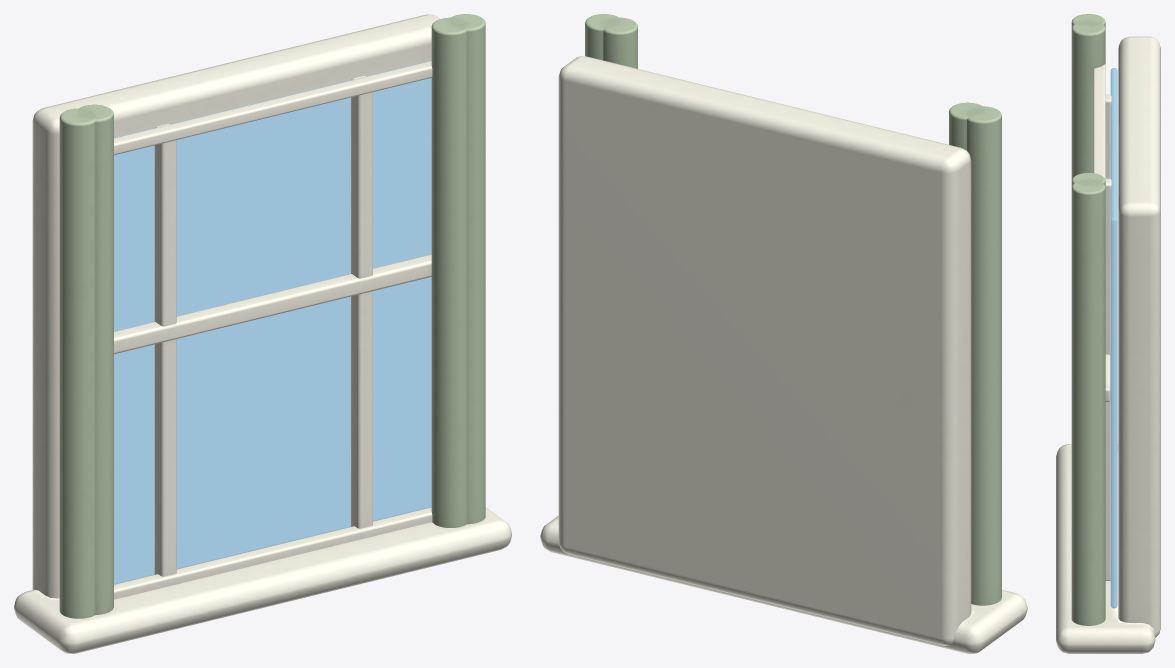
The model's file is window11A.glb.
3 views of the same model, side by side, from view 1: azimuth 30°, elevation 25°; view 2: azimuth 150°, elevation 25°; view 3: azimuth 270°, elevation 25° (orthographic). The views are drawn at different scales.
Visible parts, largest first — view 1: Window glass, Window frame, Sill, Curtain fold, Curtain fold.003, Curtain fold.002, Curtain fold.001, Window muntin, Window muntin.001, Window crossbar, Opening sash rail.001, Opening sash rail; view 2: Window frame, Curtain fold, Sill, Curtain fold.003, Curtain fold.002, Curtain fold.001; view 3: Window frame, Curtain fold.002, Sill, Window glass, Curtain fold.001, Window muntin.001, Opening sash rail.001, Window muntin, Curtain fold, Curtain fold.003, Window crossbar.
Part boxes in pixels (x1=…): Window glass: x1=114, y1=60, x2=431, y2=584; Window frame: x1=32, y1=14, x2=440, y2=598; Sill: x1=14, y1=507, x2=511, y2=653; Curtain fold: x1=59, y1=108, x2=95, y2=618; Curtain fold.003: x1=431, y1=17, x2=467, y2=527; Curtain fold.002: x1=449, y1=14, x2=485, y2=524; Curtain fold.001: x1=78, y1=104, x2=113, y2=614; Window muntin: x1=154, y1=123, x2=176, y2=576; Window muntin.001: x1=351, y1=75, x2=372, y2=528; Window crossbar: x1=114, y1=254, x2=431, y2=354; Opening sash rail.001: x1=114, y1=61, x2=432, y2=155; Opening sash rail: x1=114, y1=507, x2=432, y2=599; Window frame: x1=558, y1=56, x2=971, y2=645; Curtain fold: x1=966, y1=106, x2=1001, y2=605; Sill: x1=540, y1=515, x2=1027, y2=653; Curtain fold.003: x1=603, y1=17, x2=637, y2=68; Curtain fold.002: x1=585, y1=14, x2=619, y2=60; Curtain fold.001: x1=949, y1=102, x2=983, y2=150; Window frame: x1=1118, y1=36, x2=1160, y2=637; Curtain fold.002: x1=1071, y1=179, x2=1105, y2=625; Sill: x1=1056, y1=444, x2=1155, y2=653; Window glass: x1=1110, y1=68, x2=1117, y2=608; Curtain fold.001: x1=1071, y1=20, x2=1105, y2=179; Window muntin.001: x1=1105, y1=178, x2=1111, y2=580; Opening sash rail.001: x1=1093, y1=64, x2=1105, y2=178; Window muntin: x1=1105, y1=94, x2=1111, y2=178; Curtain fold: x1=1071, y1=14, x2=1105, y2=27; Curtain fold.003: x1=1071, y1=172, x2=1105, y2=186; Window crossbar: x1=1105, y1=354, x2=1110, y2=402.
Size of the model in its own units: 1.61 by 1.78 by 0.37.
